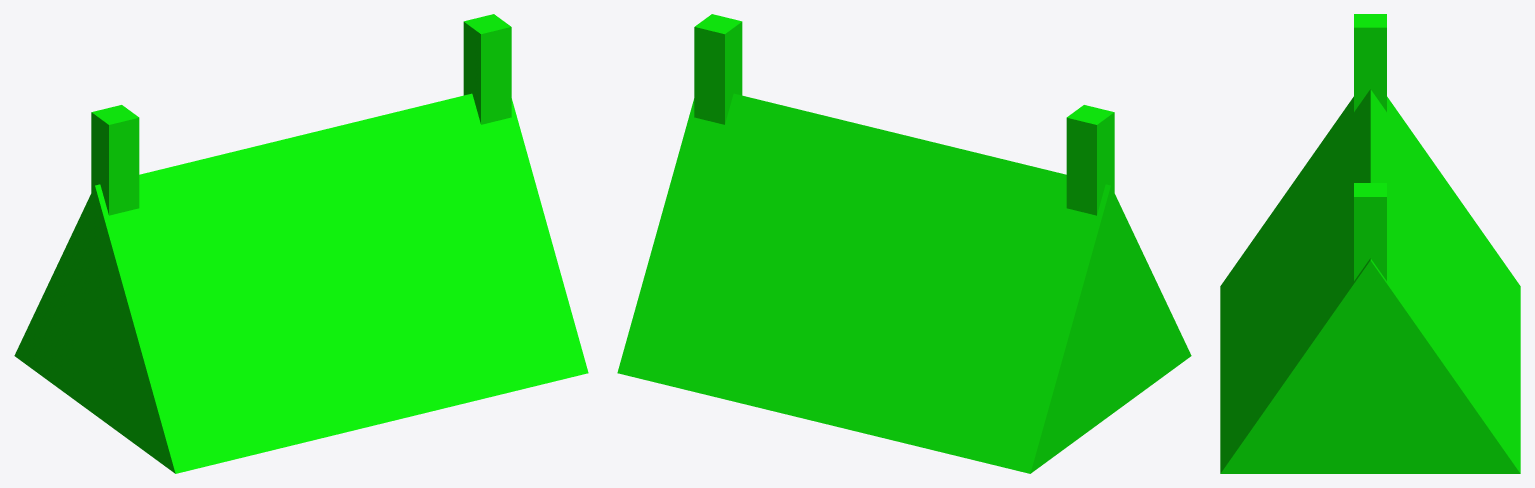
Rendered from SM_Battlemap_Figurine_Tent_A_Fantasy.fbx.
3 views of the same model, side by side, from view 1: azimuth 30°, elevation 25°; view 2: azimuth 150°, elevation 25°; view 3: azimuth 270°, elevation 25° (orthographic). The views are drawn at different scales.
Parts seen in each view (by area): view 1: battlemap-figurine-tent-a-fantasy; view 2: battlemap-figurine-tent-a-fantasy; view 3: battlemap-figurine-tent-a-fantasy.
Part boxes in pixels (x1,y1,x2,y2): battlemap-figurine-tent-a-fantasy: (14,14,588,473); battlemap-figurine-tent-a-fantasy: (617,14,1191,473); battlemap-figurine-tent-a-fantasy: (1220,14,1520,473).
Bounding box in the file's own units: 0.2998 × 0.2047 × 0.2028.
